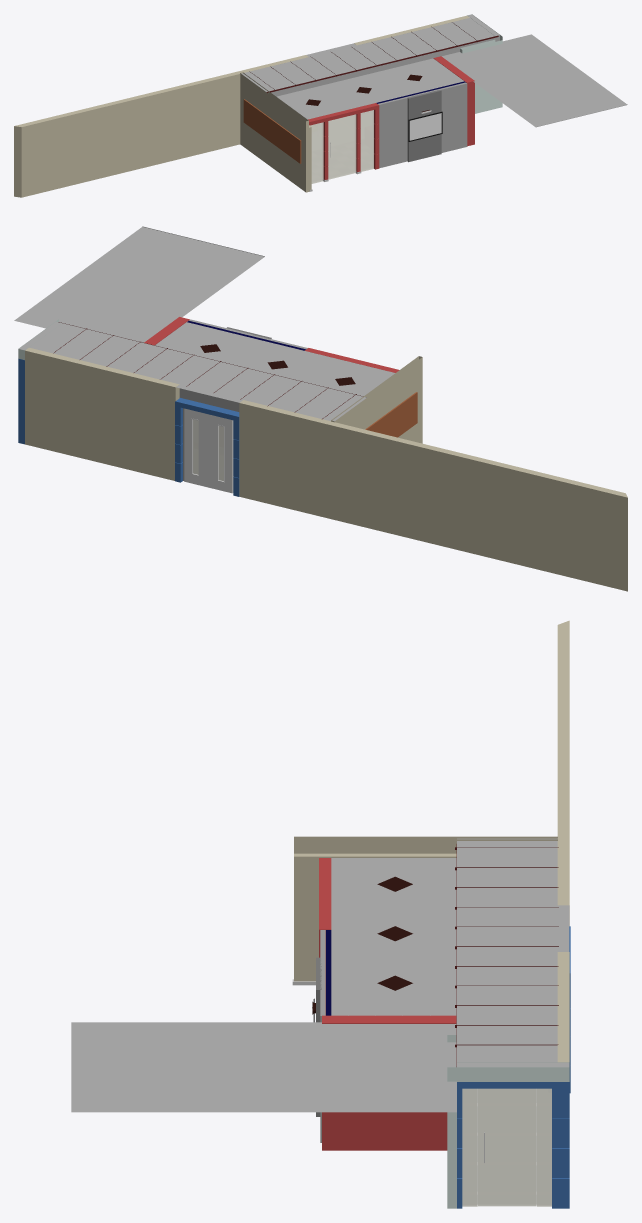
The model's file is reception_area.fbx.
3 renders of one model, top to bottom at view 1: azimuth 30°, elevation 25°; view 2: azimuth 150°, elevation 25°; view 3: azimuth 270°, elevation 25°, orthographic. The views are drawn at different scales.
Parts seen in each view (by area): view 1: front_ceiling_3, croom_4, reception, reception_animate_door1, f_cabin_22, reception_wall, f_cabin_21; view 2: croom_4, front_ceiling_3, reception, steel_door, glass, reception_wall_low; view 3: front_ceiling_3, reception, reception_animate_door2, reception_wall, croom_4.
Boxes of the visible parts, x1,y1,x2,y2 form: front_ceiling_3: (241,14,627,127); croom_4: (14,55,308,197); reception: (240,14,502,192); reception_animate_door1: (328,114,356,179); f_cabin_22: (407,90,441,162); reception_wall: (433,56,474,146); f_cabin_21: (409,113,441,140); croom_4: (239,400,627,591); front_ceiling_3: (14,226,395,421); reception: (18,319,422,496); steel_door: (184,408,233,493); glass: (193,419,223,481); reception_wall_low: (179,388,239,411); front_ceiling_3: (71,838,569,1112); reception: (292,836,570,1208); reception_animate_door2: (478,1088,536,1206); reception_wall: (322,1015,456,1150); croom_4: (557,620,569,925).
Bounding box in the file's own units: 2213 × 309 × 977.
